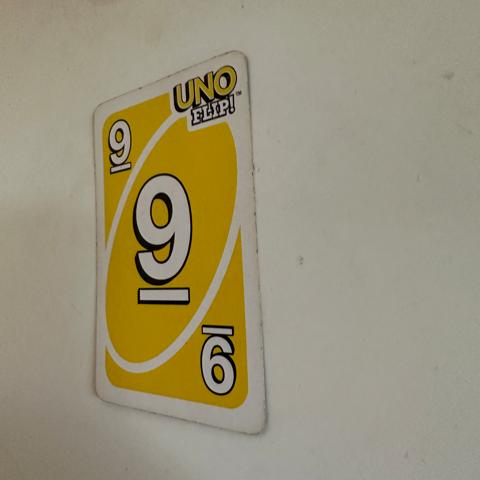draw2_red: (133, 172, 197, 306), (196, 321, 242, 392), (101, 115, 135, 171)
